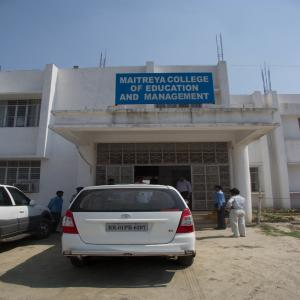Vehicle-registration-plate: (107, 224, 149, 234)
